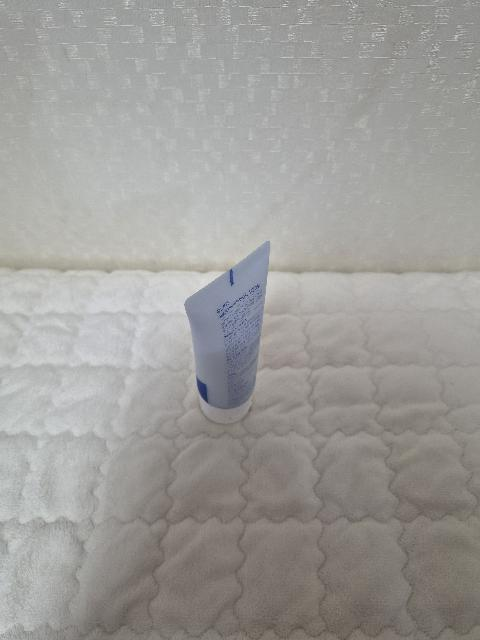handcream: (184, 240, 270, 424)
